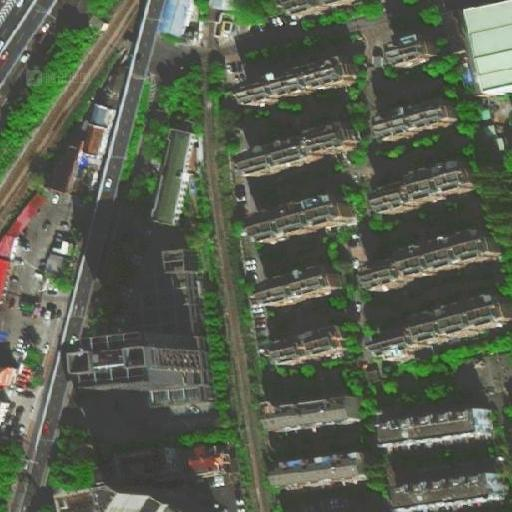building: (64, 330, 207, 405), (373, 303, 511, 367), (364, 229, 497, 292), (118, 244, 208, 331), (243, 123, 357, 181), (241, 58, 355, 109), (376, 161, 479, 215), (52, 482, 241, 511), (250, 197, 356, 246), (459, 3, 512, 94), (151, 128, 198, 229), (383, 412, 491, 450), (395, 476, 503, 512), (268, 397, 364, 437), (269, 326, 349, 372), (257, 268, 337, 313), (43, 134, 97, 196), (273, 456, 369, 490), (376, 100, 457, 139), (0, 193, 45, 263), (377, 35, 451, 71), (114, 448, 186, 479), (100, 52, 132, 105), (479, 110, 512, 153), (184, 448, 222, 474), (48, 231, 77, 264), (90, 102, 118, 130), (0, 357, 15, 383), (0, 394, 13, 423)
